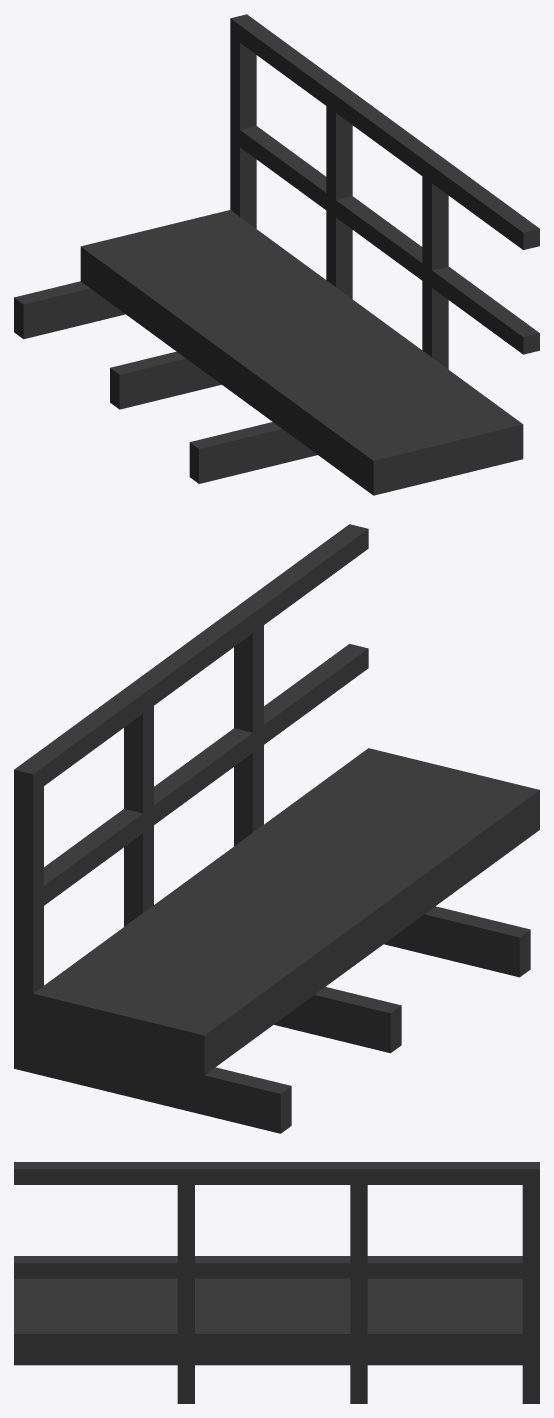
Rendered from DarkGreyMetalBridgeSmallIndustrialCatwalkw1RailingRight1.fbx.
The picture shows the model from 3 angles, top to bottom: view 1: azimuth 30°, elevation 25°; view 2: azimuth 150°, elevation 25°; view 3: azimuth 270°, elevation 25°; orthographic projection. The views are drawn at different scales.
Parts seen in each view (by area): view 1: DarkGreyMetalBridgeSmallIndustrialCatwalkw1RailingRight1; view 2: DarkGreyMetalBridgeSmallIndustrialCatwalkw1RailingRight1; view 3: DarkGreyMetalBridgeSmallIndustrialCatwalkw1RailingRight1.
Boxes of the visible parts, bbox=[...] form: DarkGreyMetalBridgeSmallIndustrialCatwalkw1RailingRight1: bbox=[14, 14, 539, 495]; DarkGreyMetalBridgeSmallIndustrialCatwalkw1RailingRight1: bbox=[14, 524, 539, 1133]; DarkGreyMetalBridgeSmallIndustrialCatwalkw1RailingRight1: bbox=[14, 1162, 539, 1403].
Size of the model in its own units: 150 by 150 by 305.
Materials: 1 (1 with a texture image).
